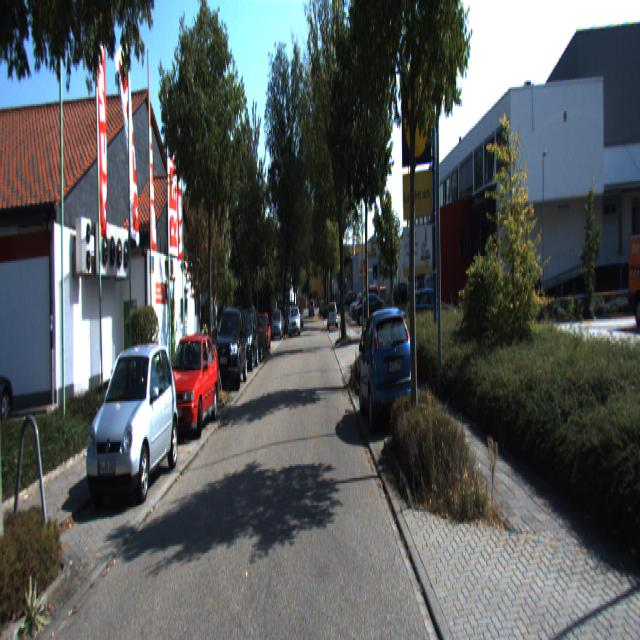Car: (85, 339, 179, 508), (357, 299, 414, 428), (162, 329, 220, 437), (213, 306, 249, 392), (232, 310, 260, 374), (328, 300, 338, 331)
